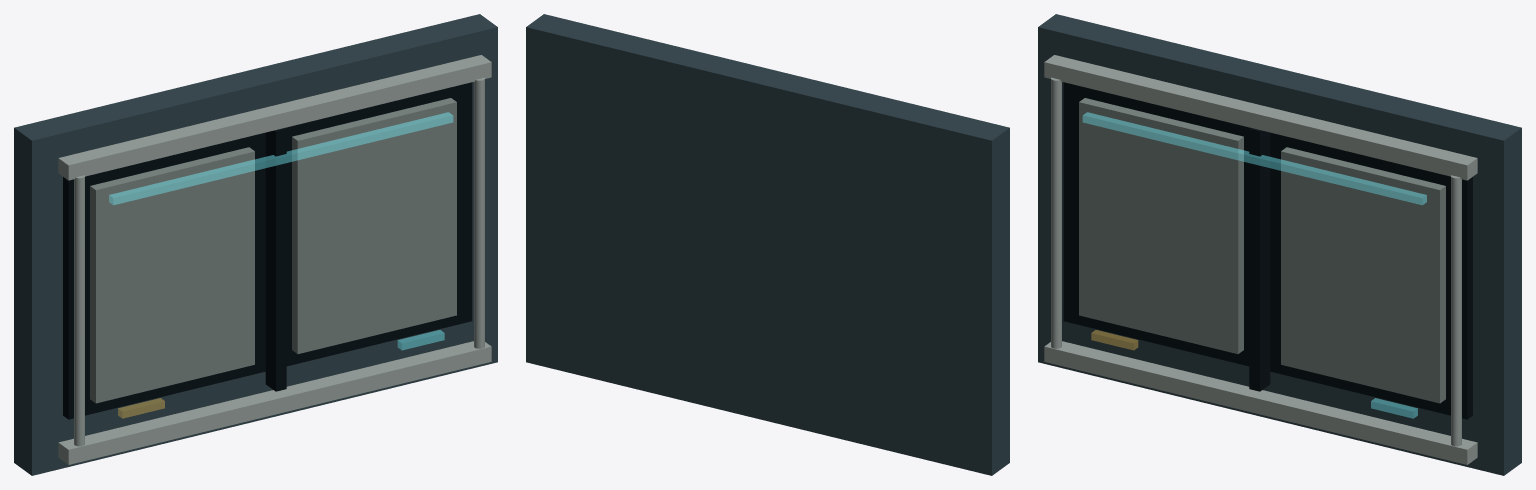
Rendered from hp_room_wall_panel_maintenance.glb.
The picture shows the model from 3 angles, left to right: view 1: azimuth 30°, elevation 25°; view 2: azimuth 150°, elevation 25°; view 3: azimuth 330°, elevation 25°; orthographic projection.
Visible parts, largest first — view 1: maintenance_wall_structural_back, maintenance_wall_main_panel_left, maintenance_wall_main_panel_right, maintenance_wall_inset_shadow, maintenance_wall_top_rail, maintenance_wall_bottom_rail, maintenance_wall_center_seam, maintenance_wall_status_strip, maintenance_wall_side_pipe_-1.03, maintenance_wall_side_pipe_1.03, maintenance_wall_data_chip_b, maintenance_wall_data_chip_a; view 2: maintenance_wall_structural_back; view 3: maintenance_wall_structural_back, maintenance_wall_main_panel_right, maintenance_wall_main_panel_left, maintenance_wall_inset_shadow, maintenance_wall_top_rail, maintenance_wall_bottom_rail, maintenance_wall_center_seam, maintenance_wall_status_strip, maintenance_wall_side_pipe_1.03, maintenance_wall_side_pipe_-1.03, maintenance_wall_data_chip_a, maintenance_wall_data_chip_b.
Part boxes in pixels (x1,y1,x2,y2): maintenance_wall_structural_back: [14, 14, 497, 475]; maintenance_wall_main_panel_left: [90, 147, 254, 403]; maintenance_wall_main_panel_right: [292, 98, 456, 353]; maintenance_wall_inset_shadow: [63, 82, 472, 419]; maintenance_wall_top_rail: [58, 55, 491, 180]; maintenance_wall_bottom_rail: [58, 341, 491, 464]; maintenance_wall_center_seam: [265, 128, 286, 391]; maintenance_wall_status_strip: [109, 112, 453, 204]; maintenance_wall_side_pipe_-1.03: [74, 175, 84, 446]; maintenance_wall_side_pipe_1.03: [474, 77, 484, 348]; maintenance_wall_data_chip_b: [397, 330, 444, 350]; maintenance_wall_data_chip_a: [118, 398, 164, 418]; maintenance_wall_structural_back: [526, 14, 1009, 475]; maintenance_wall_structural_back: [1038, 14, 1521, 475]; maintenance_wall_main_panel_right: [1281, 147, 1445, 403]; maintenance_wall_main_panel_left: [1079, 98, 1243, 353]; maintenance_wall_inset_shadow: [1063, 82, 1472, 419]; maintenance_wall_top_rail: [1044, 55, 1477, 180]; maintenance_wall_bottom_rail: [1044, 341, 1477, 464]; maintenance_wall_center_seam: [1249, 128, 1270, 391]; maintenance_wall_status_strip: [1082, 112, 1426, 204]; maintenance_wall_side_pipe_1.03: [1451, 175, 1461, 446]; maintenance_wall_side_pipe_-1.03: [1051, 77, 1061, 348]; maintenance_wall_data_chip_a: [1091, 330, 1138, 350]; maintenance_wall_data_chip_b: [1371, 398, 1417, 418].
Size of the model in its own units: 2.4 by 1.65 by 0.326.
